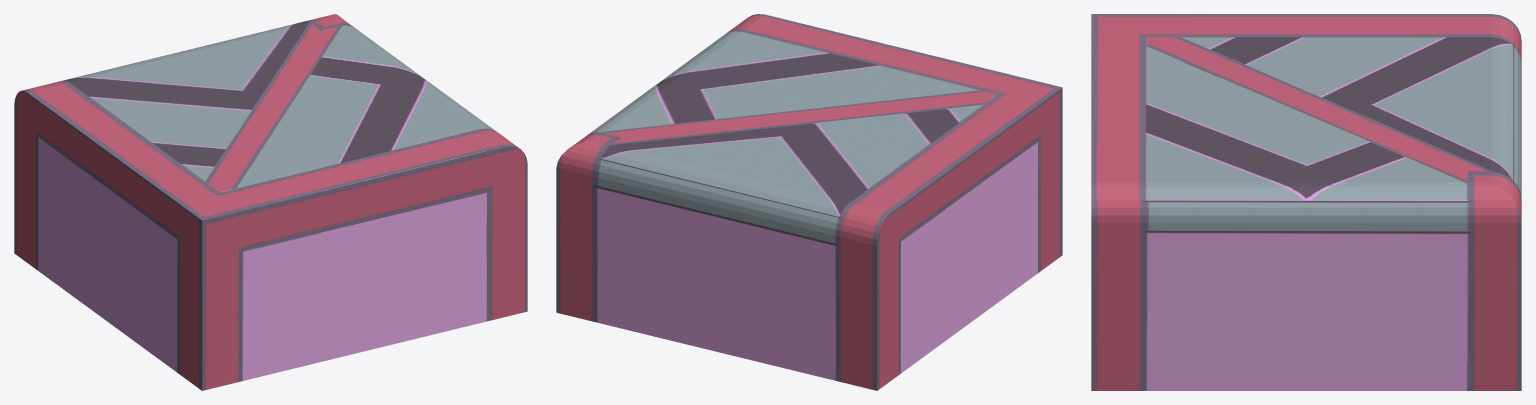
File: róg_na_lewo.glb
3 views of the same model, side by side, from view 1: azimuth 30°, elevation 25°; view 2: azimuth 150°, elevation 25°; view 3: azimuth 270°, elevation 25° (orthographic). The views are drawn at different scales.
Visible parts, largest first — view 1: Cube, Plane.006, Plane.003; view 2: Cube, Plane.003, Plane.006; view 3: Cube, Plane.006, Plane.003.
Part boxes in pixels (x1,y1,x2,y2): Cube: [14, 22, 527, 390]; Plane.006: [202, 14, 519, 220]; Plane.003: [21, 14, 334, 219]; Cube: [556, 87, 1062, 390]; Plane.003: [566, 87, 1061, 226]; Plane.006: [567, 14, 1061, 149]; Cube: [1091, 22, 1521, 390]; Plane.006: [1091, 14, 1512, 200]; Plane.003: [1092, 14, 1513, 199].
Bounding box in the file's own units: 2 × 1 × 2.
4 materials, 4 textured.
